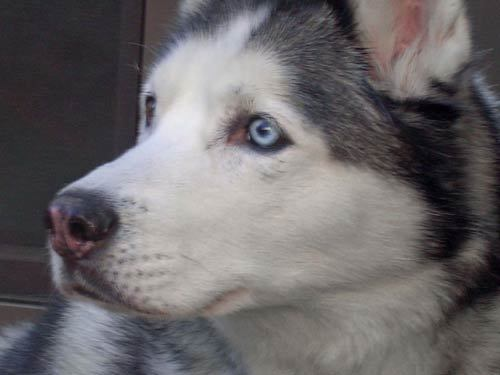dog: (0, 2, 499, 374)
